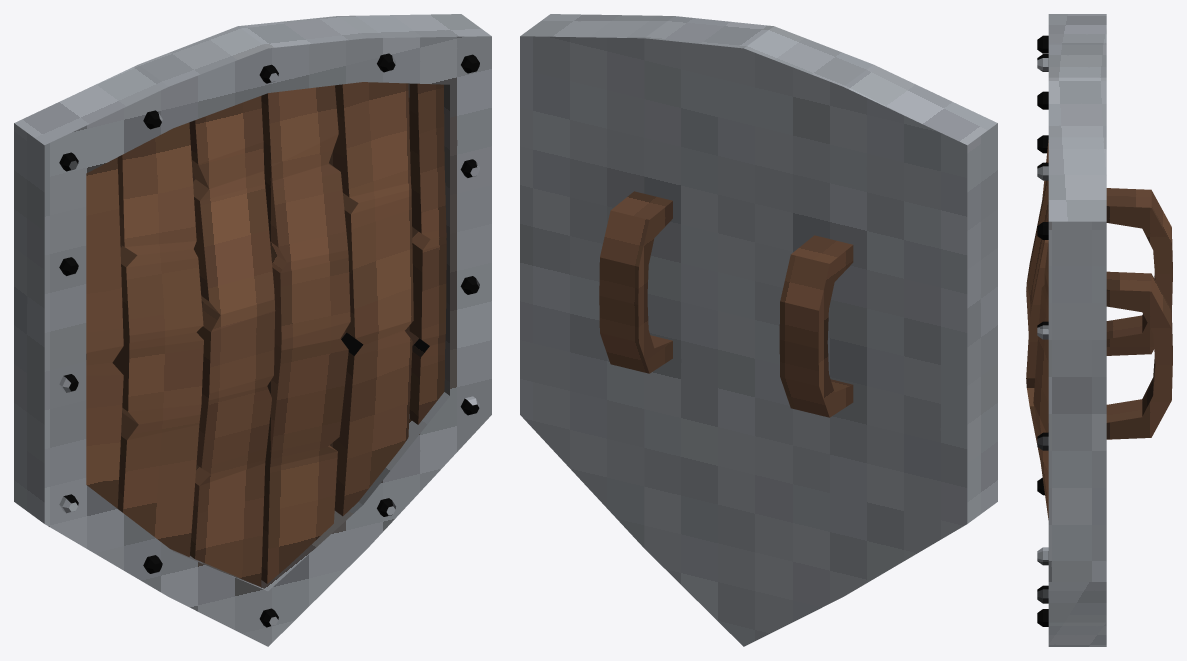
Rendered from shield_heater_2.glb.
The picture shows the model from 3 angles, left to right: view 1: azimuth 30°, elevation 25°; view 2: azimuth 150°, elevation 25°; view 3: azimuth 270°, elevation 25°; orthographic projection. The views are drawn at different scales.
Parts seen in each view (by area): view 1: Shield_Heater_2; view 2: Shield_Heater_2; view 3: Shield_Heater_2.
Part boxes in pixels (x1,y1,x2,y2): Shield_Heater_2: [14, 14, 491, 646]; Shield_Heater_2: [520, 14, 997, 646]; Shield_Heater_2: [1026, 14, 1172, 646].
Bounding box in the file's own units: 0.6648 × 0.85 × 0.1985.
1 material, 1 textured.
